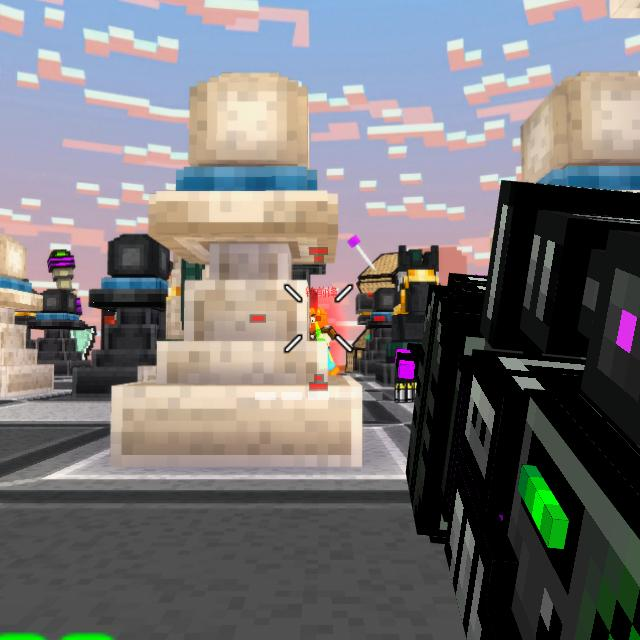Enemy: (307, 310, 338, 381)
